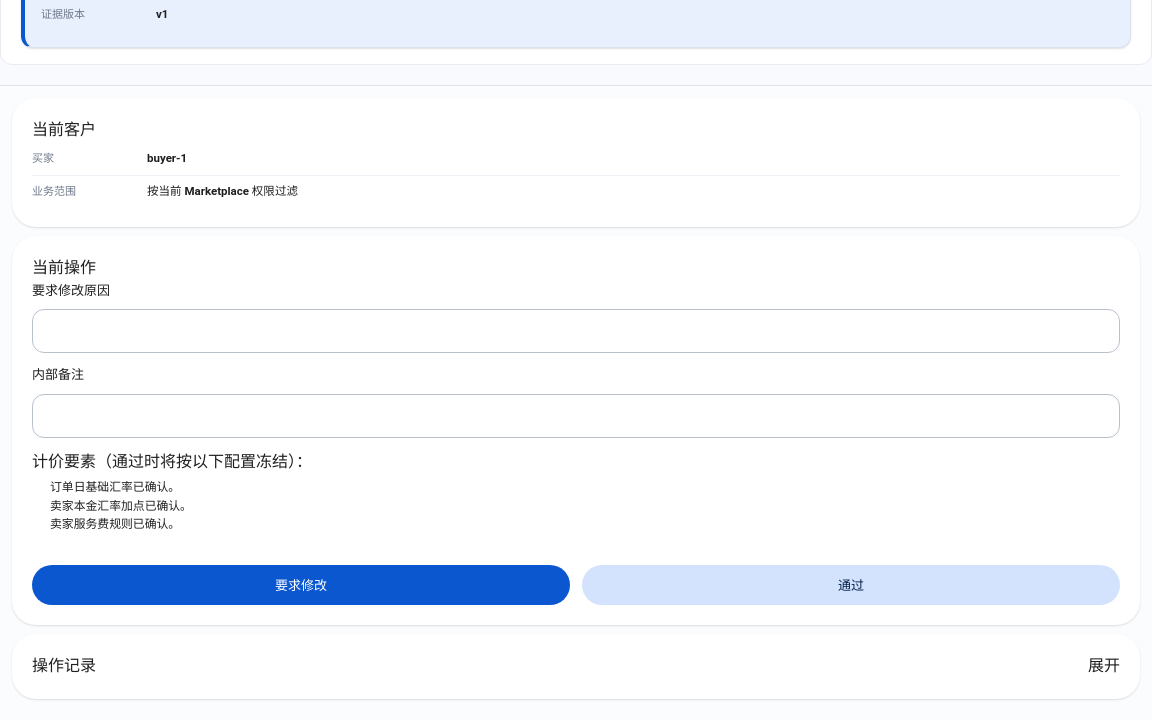
Test: order evidence review panel › retries an ambiguous approval with the identical body and idempotency key
(page scrolled)
Click the button "通过": (851, 585) [582,565,1120,605]
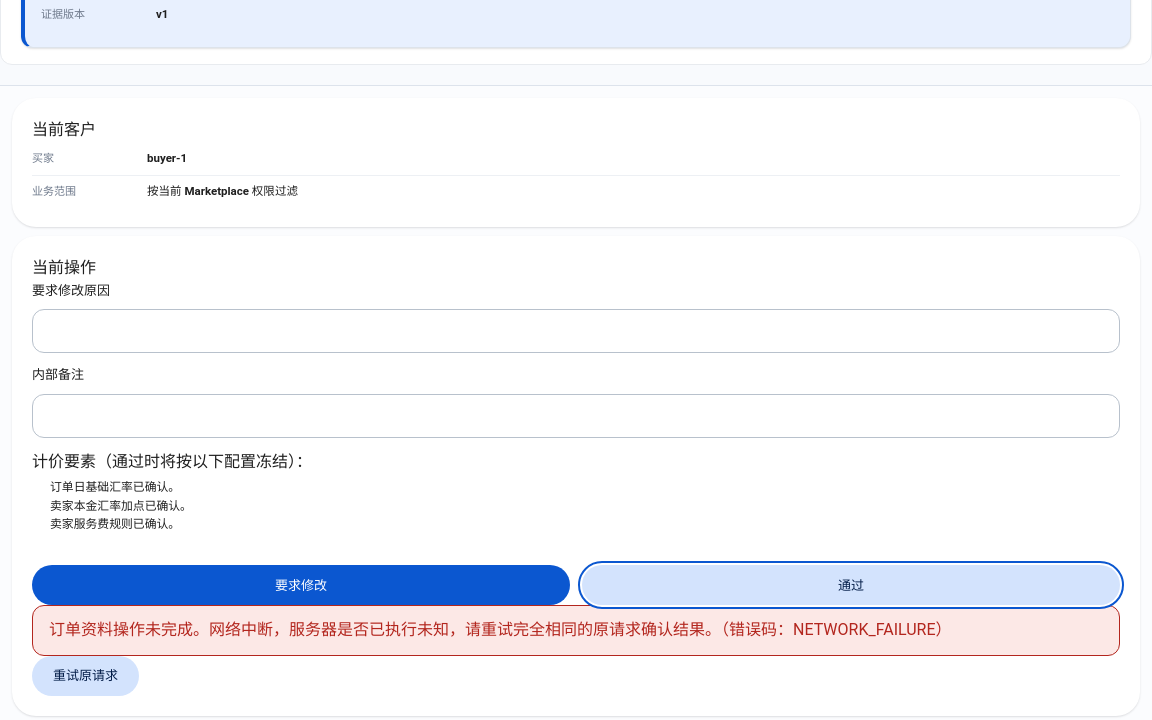
Click the button "重试原请求": (86, 676) [32,656,139,696]
(page scrolled)
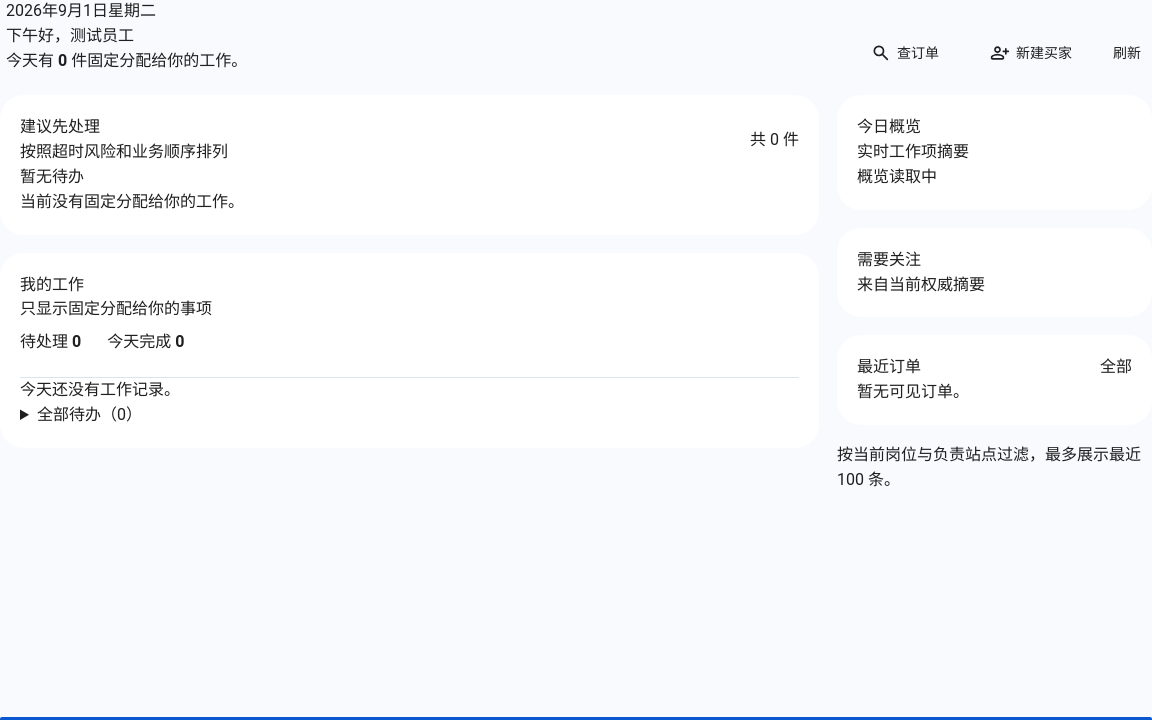
Now the heading "暂无待办" is shown, box [20,167,84,186]
